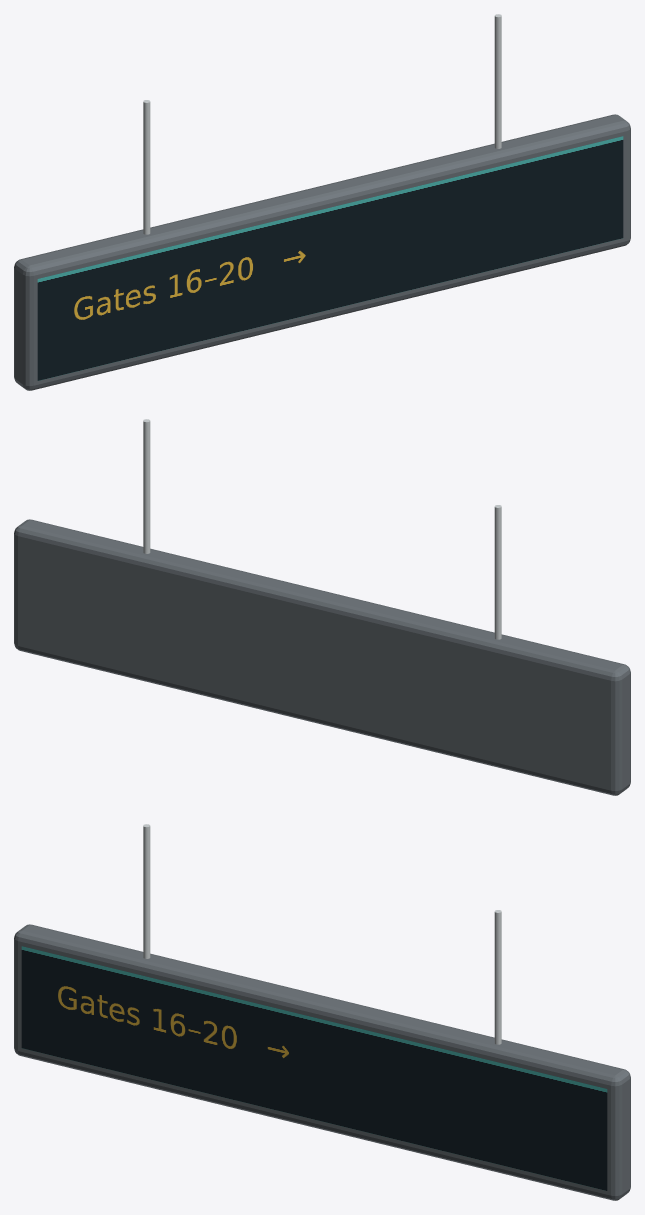
File: wayfinding-sign.glb
The picture shows the model from 3 angles, top to bottom: view 1: azimuth 30°, elevation 25°; view 2: azimuth 150°, elevation 25°; view 3: azimuth 330°, elevation 25°; orthographic projection.
Visible parts, largest first — view 1: EditableScreen, DisplayHousing, Suspension-0.44999999999999996, Suspension0.44999999999999996; view 2: DisplayHousing, Suspension-0.44999999999999996, Suspension0.44999999999999996; view 3: EditableScreen, DisplayHousing, Suspension0.44999999999999996, Suspension-0.44999999999999996.
Boxes of the visible parts, <box> form: EditableScreen: <box>37,136,623,380</box>; DisplayHousing: <box>14,114,630,390</box>; Suspension-0.44999999999999996: <box>143,100,150,234</box>; Suspension0.44999999999999996: <box>494,14,501,148</box>; DisplayHousing: <box>14,519,630,795</box>; Suspension-0.44999999999999996: <box>494,505,501,639</box>; Suspension0.44999999999999996: <box>143,419,150,553</box>; EditableScreen: <box>21,946,607,1190</box>; DisplayHousing: <box>14,924,630,1200</box>; Suspension0.44999999999999996: <box>494,910,501,1044</box>; Suspension-0.44999999999999996: <box>143,824,150,958</box>.
Size of the model in its own units: 1.55 by 0.6275 by 0.071.
Materials: 3 (1 with a texture image).
